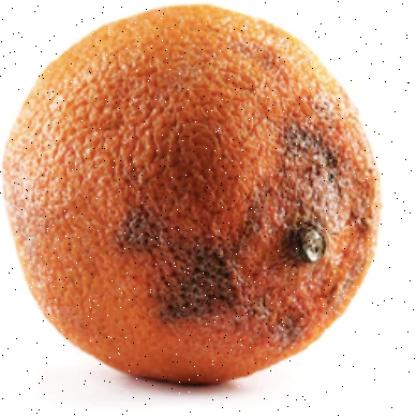rotten: (8, 7, 382, 383)
